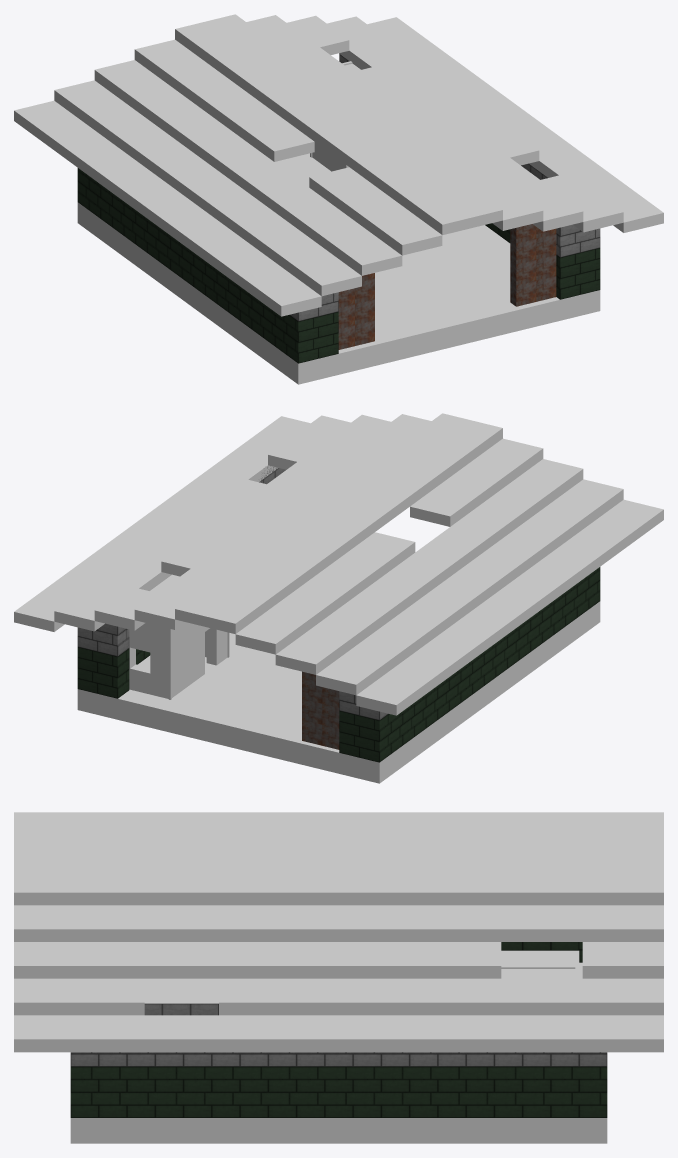
Rendered from StorageBuilding.fbx.
3 views of the same model, one above another, from view 1: azimuth 30°, elevation 25°; view 2: azimuth 150°, elevation 25°; view 3: azimuth 270°, elevation 25° (orthographic). The views are drawn at different scales.
Visible parts, largest first — view 1: StorageRoof, StorageFloor, StorageWallsDown, StorageMetalWalls, StorageWallsUp, StorageBuilding; view 2: StorageRoof, StorageFloor, StorageWallsDown, StorageBuilding, StorageMetalWalls, StorageWallsUp; view 3: StorageRoof, StorageWallsDown, StorageFloor, StorageWallsUp, StorageBuilding.
Part boxes in pixels (<box>): StorageRoof: <box>14,14,663,316</box>; StorageFloor: <box>77,153,600,384</box>; StorageWallsDown: <box>77,168,600,363</box>; StorageMetalWalls: <box>338,224,556,349</box>; StorageWallsUp: <box>289,54,600,321</box>; StorageBuilding: <box>310,61,360,171</box>; StorageRoof: <box>14,413,663,715</box>; StorageFloor: <box>77,601,600,783</box>; StorageWallsDown: <box>77,567,600,762</box>; StorageBuilding: <box>129,574,229,699</box>; StorageMetalWalls: <box>302,671,339,749</box>; StorageWallsUp: <box>77,466,388,720</box>; StorageRoof: <box>14,812,663,1052</box>; StorageWallsDown: <box>70,942,607,1117</box>; StorageFloor: <box>70,950,607,1143</box>; StorageWallsUp: <box>70,1003,607,1066</box>; StorageBuilding: <box>501,965,579,978</box>.
Bounding box in the file's own units: 1919 × 707 × 2323.
